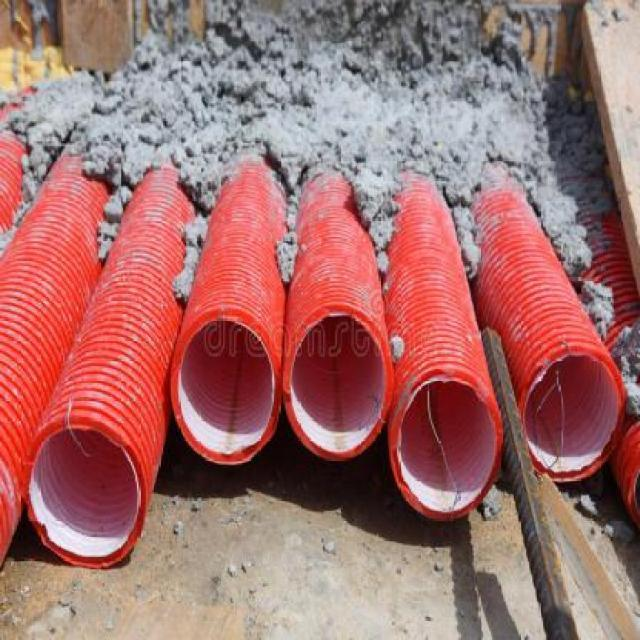pipe: (23, 417, 148, 568), (171, 306, 280, 466), (391, 369, 504, 520), (283, 305, 392, 461), (520, 346, 624, 482)
